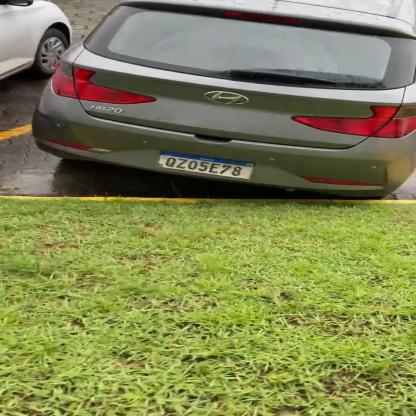Plate: (151, 147, 257, 183)
